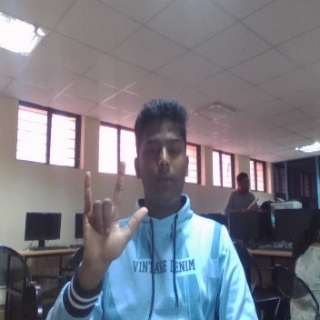Face: (134, 96, 191, 207)
I Love You: (79, 159, 149, 265)
